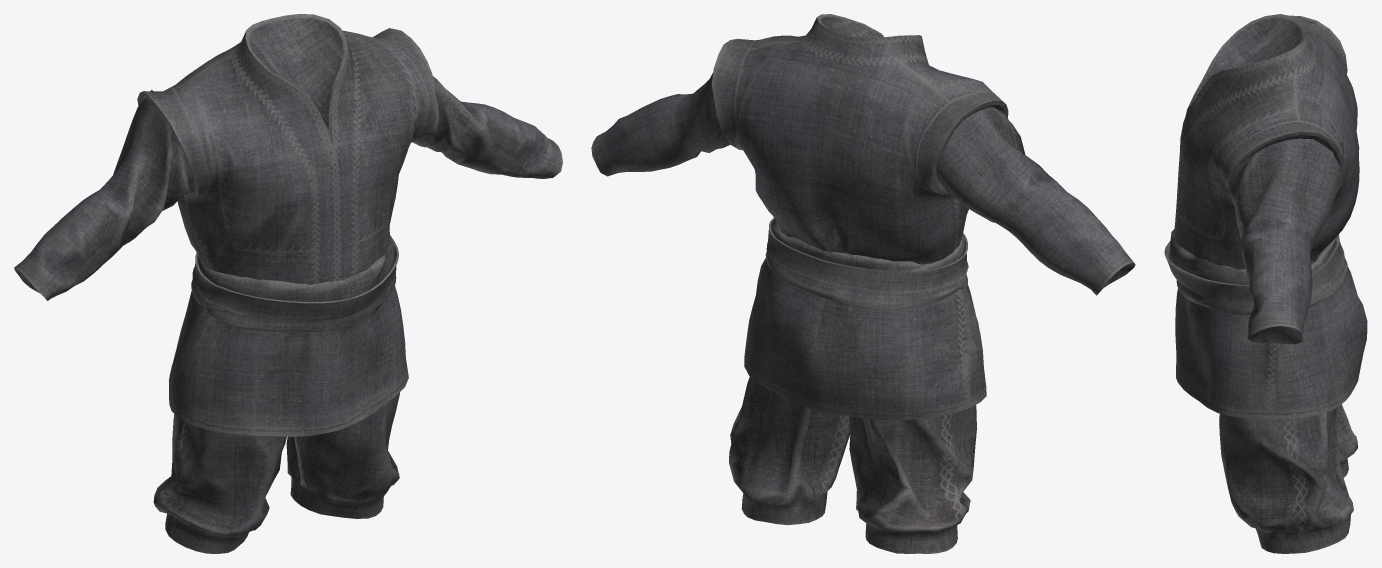
Rendered from sk_dwarf_tunic_noble_c.fbx.
3 renders of one model, left to right at view 1: azimuth 30°, elevation 25°; view 2: azimuth 150°, elevation 25°; view 3: azimuth 270°, elevation 25°, orthographic. The views are drawn at different scales.
Parts seen in each view (by area): view 1: sk_dwarf_tunic_noble_c; view 2: sk_dwarf_tunic_noble_c; view 3: sk_dwarf_tunic_noble_c.
Part boxes in pixels (x1,y1,x2,y2): sk_dwarf_tunic_noble_c: (14,14,562,553); sk_dwarf_tunic_noble_c: (591,14,1135,553); sk_dwarf_tunic_noble_c: (1164,14,1367,553).
Size of the model in its own units: 1.16 by 0.401 by 1.04.
1 material, 1 textured.
